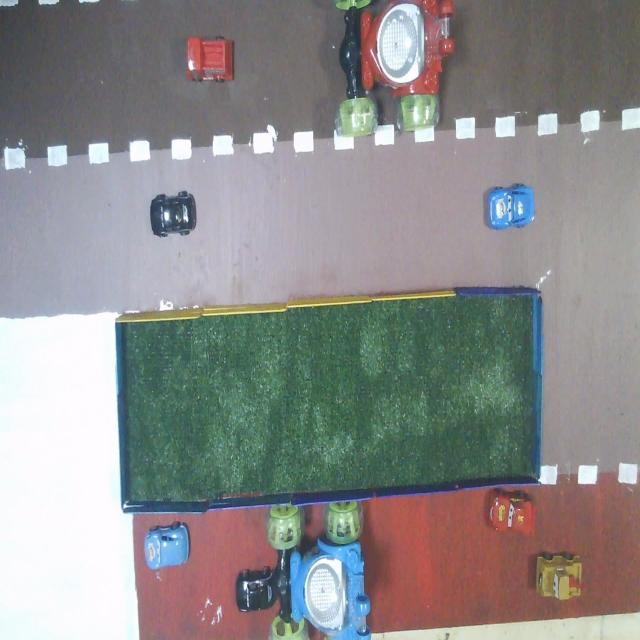driver car f: (287, 540, 370, 639)
small cars: (335, 0, 454, 137), (537, 552, 582, 600), (150, 191, 196, 236), (145, 523, 190, 569), (487, 185, 534, 229), (187, 37, 233, 81), (490, 491, 535, 533)
